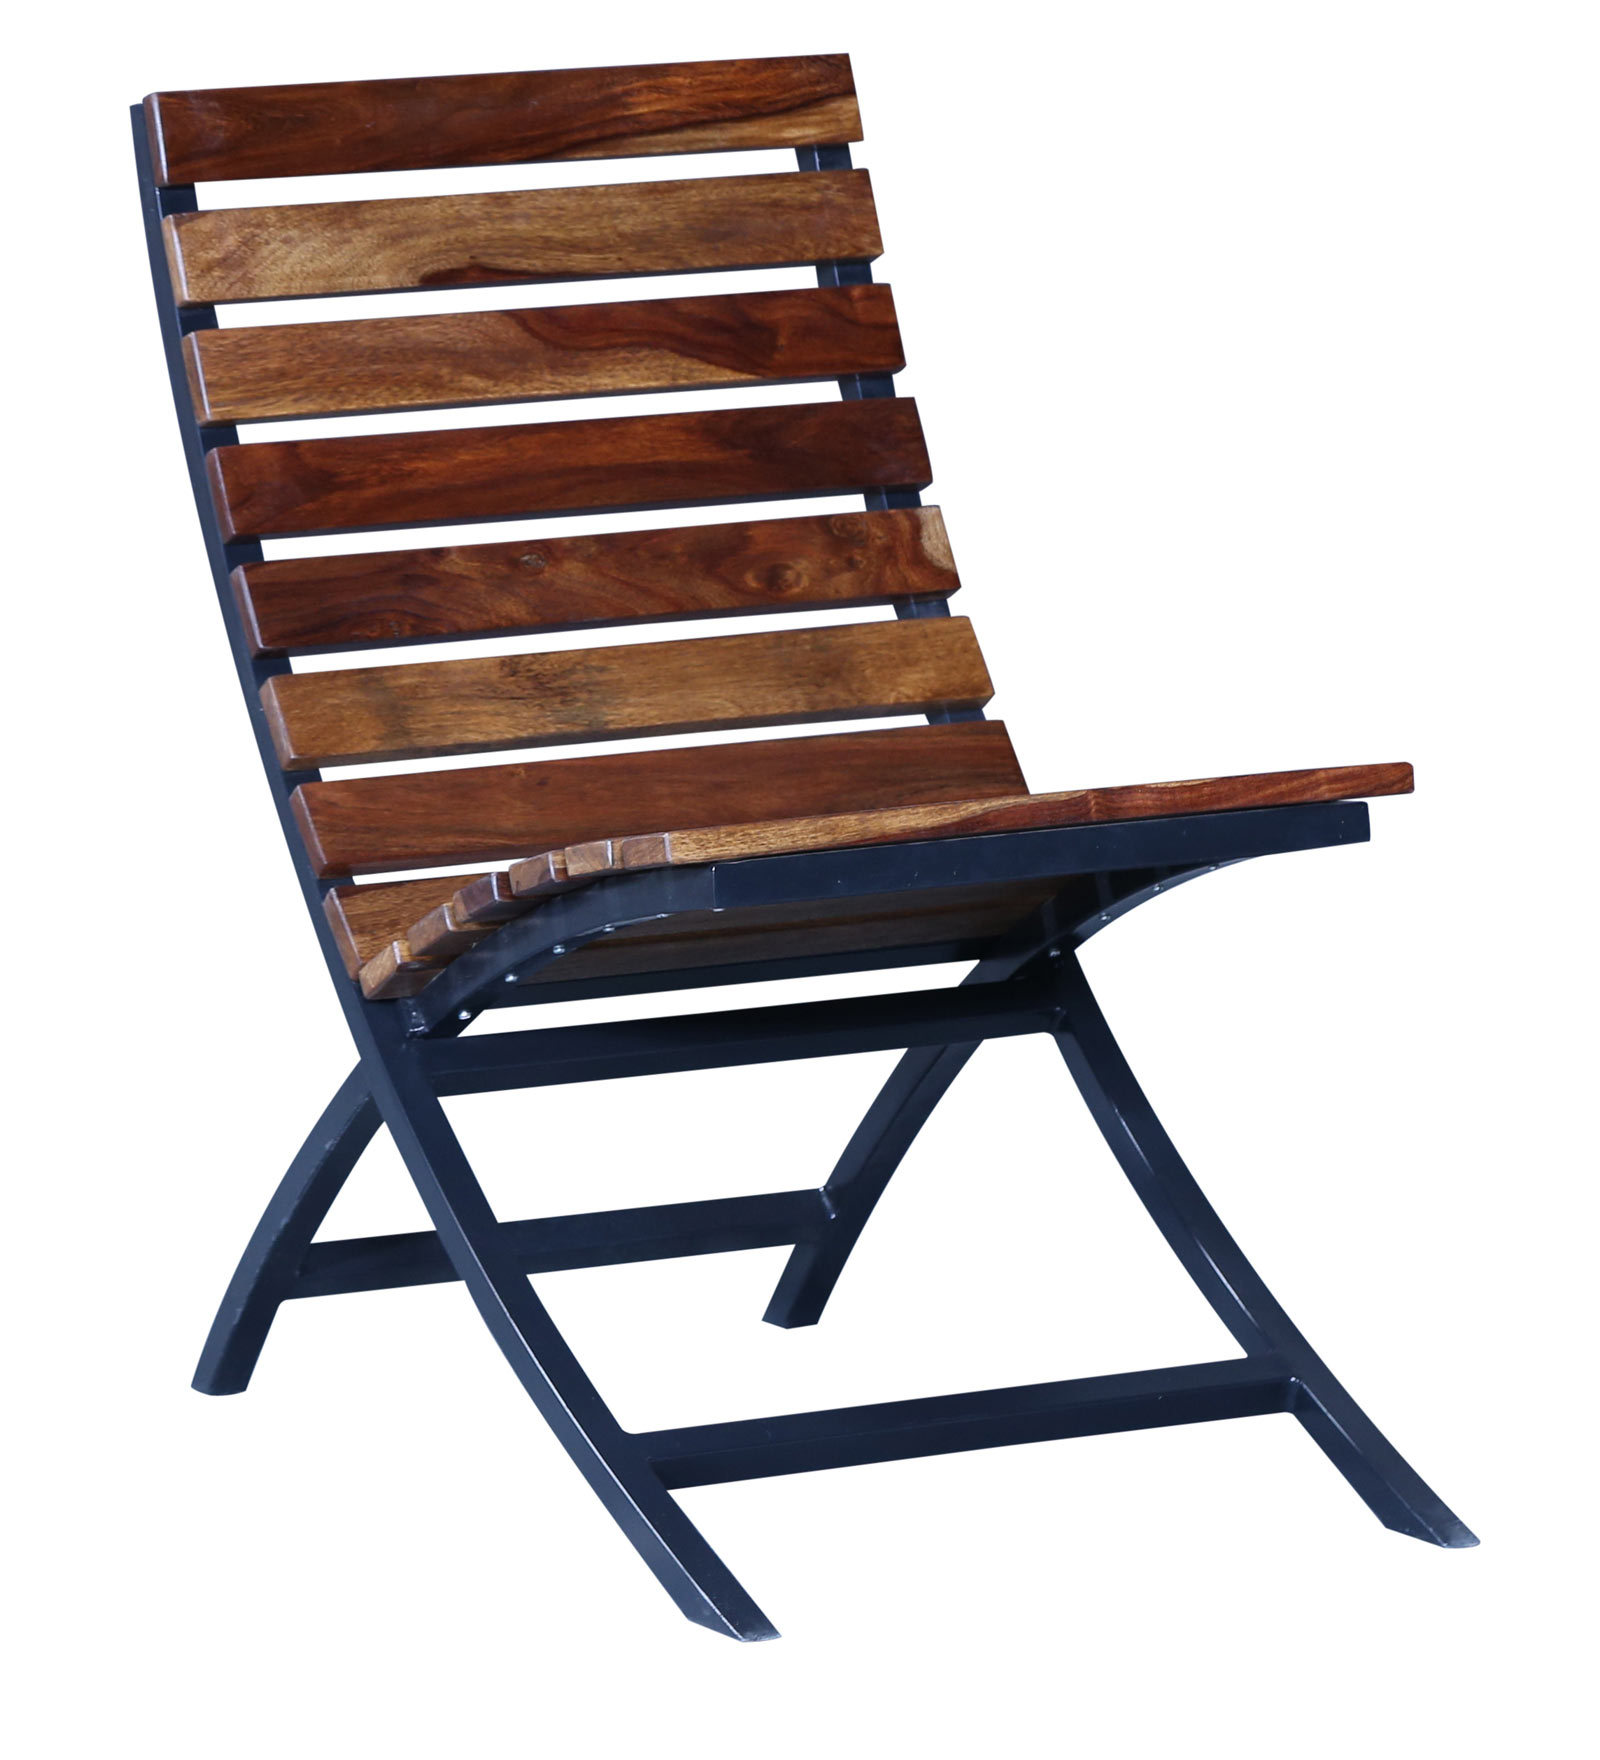Mexico Folding Chair by Bohemiana: (113, 40, 1507, 1643)
